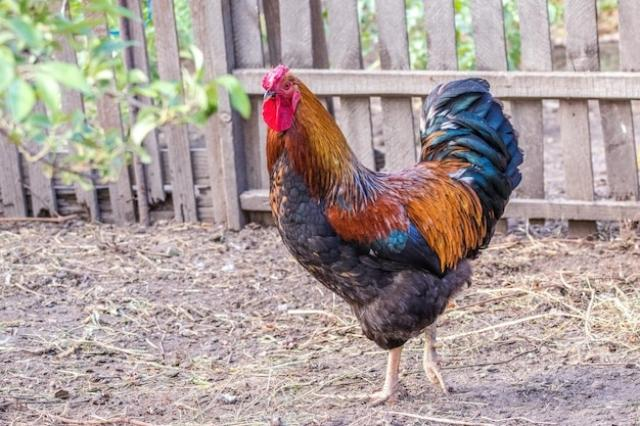Chicken: (262, 64, 523, 407)
